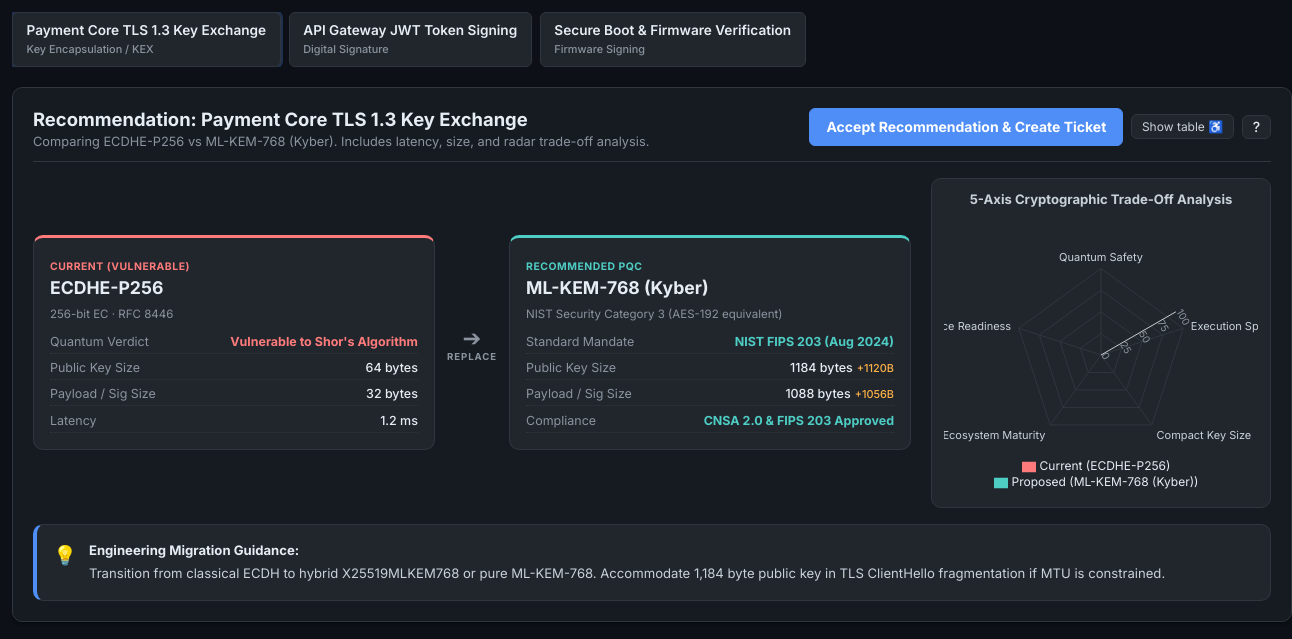
it: Phase 10 — Interactive GUI: Risk & Migration Visualisation › RecommendationWorkspace (10.8) › renders side-by-side comparison and generates remediation ticket
Expected: the heading "Recommendation: Payment Core TLS 1.3 Key Exchange" is shown, [33, 108, 528, 130]
Expected: the text "Current (Vulnerable)" is shown, [50, 260, 190, 273]
Click the button "Accept Recommendation & Create Ticket" at (966, 127), box [810, 108, 1123, 146]
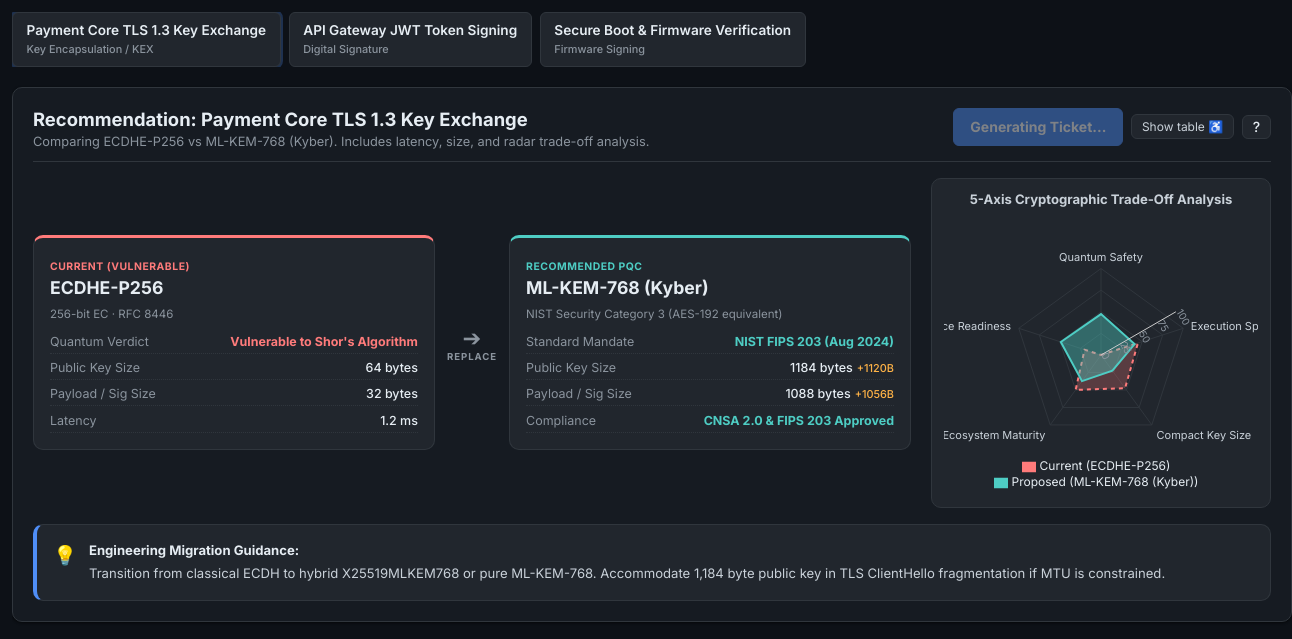
Expected: the button "Generating Ticket..." is shown, [953, 108, 1123, 146]
